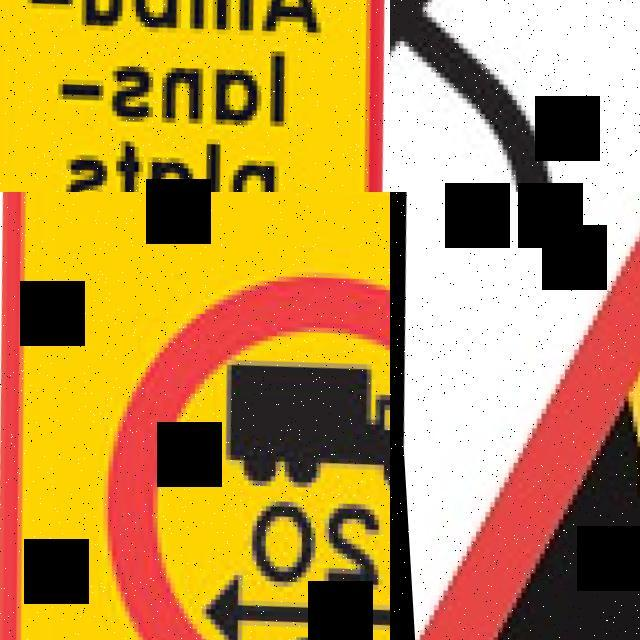158: (390, 192, 640, 640)
170: (390, 0, 640, 192)
177: (0, 0, 390, 192)
No vehicles exceeding length shown: (0, 192, 390, 640)
